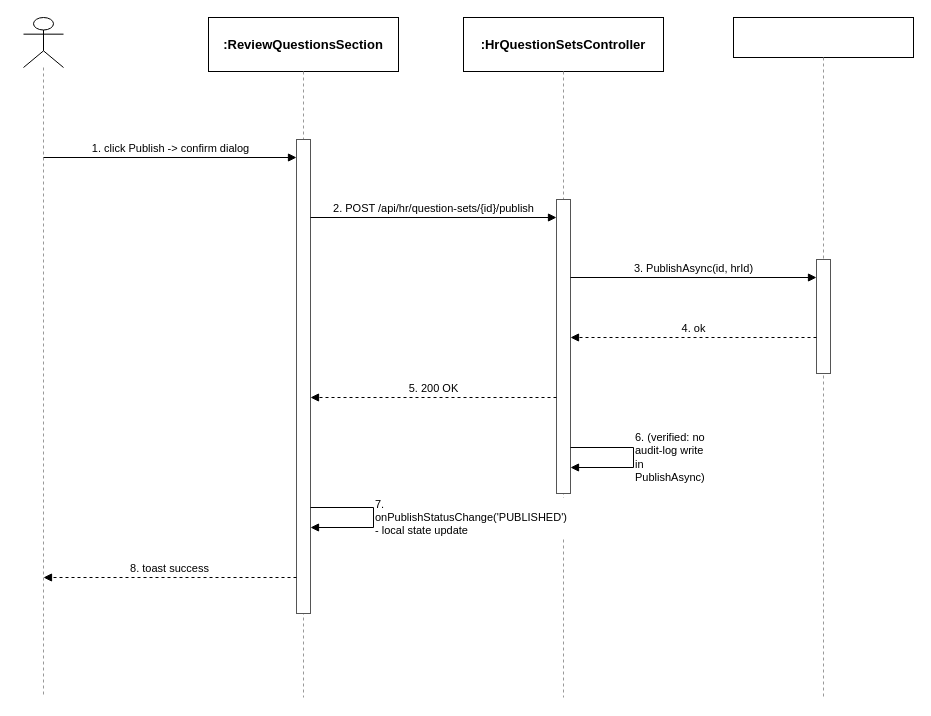
Image size: 931x716. Some labels were removed from this diagram. The centre of each missing label's shape, as x and y in pixels:
:QuestionSetService: pixel 823 37
HR Manager: pixel 43 42
